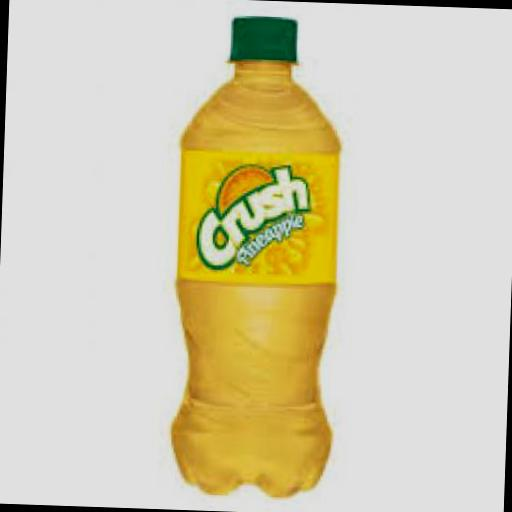plastic: (166, 11, 346, 496), (224, 12, 298, 68)
